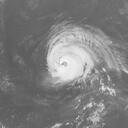cyclone: (46, 22, 103, 88)
